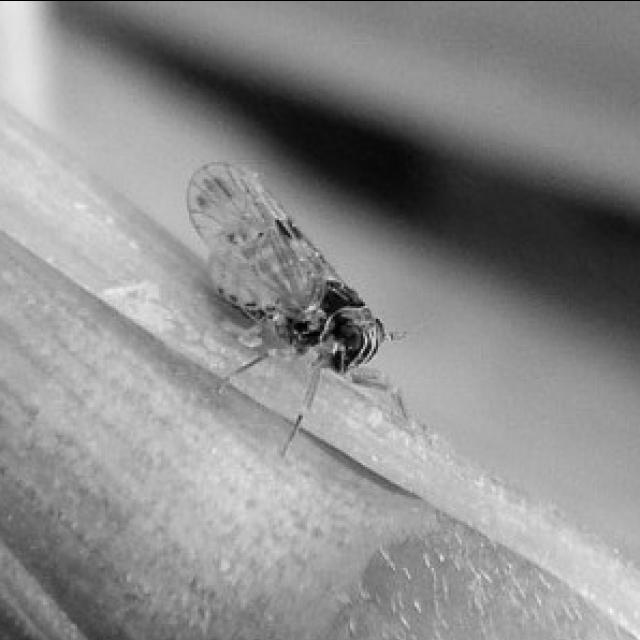brown plant hopper: (189, 163, 399, 432)
